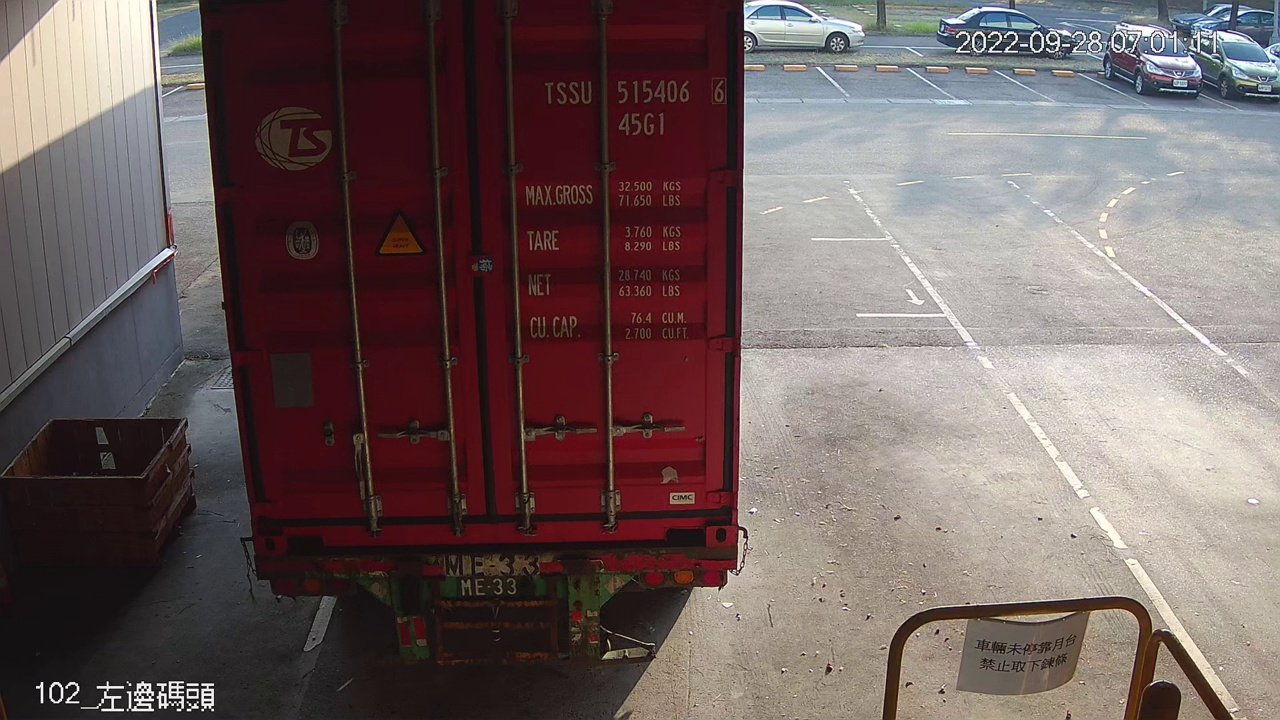container: (535, 72, 733, 141)
